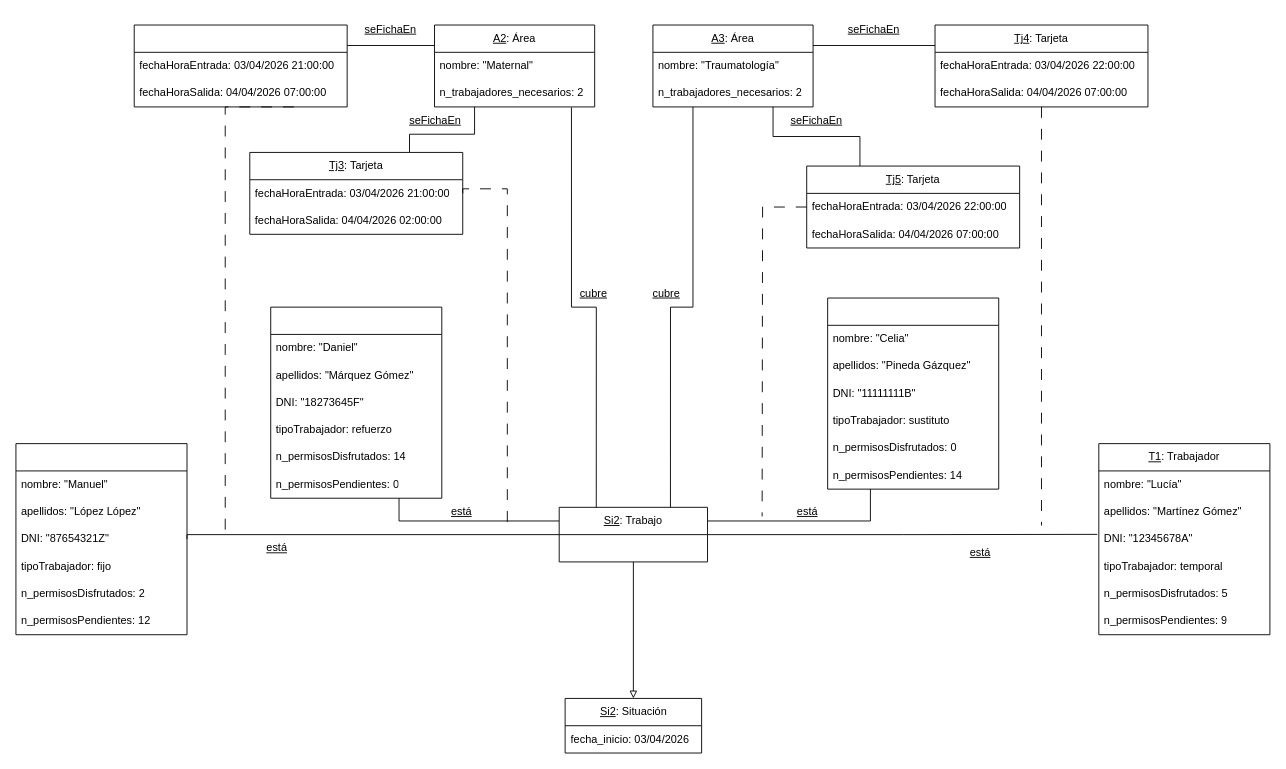
This 1286x769 diagram has some shape labels left out. The shapes that lost their labels are listed below. From the top down, each one's box as (x1, y1, x2, y2) in pixels, then its label:
(133, 24, 347, 107): Tj2 : Tarjeta
(270, 306, 442, 498): T3 : Trabajador
(827, 297, 999, 489): T4 : Trabajador
(15, 443, 187, 635): T2 : Trabajador
